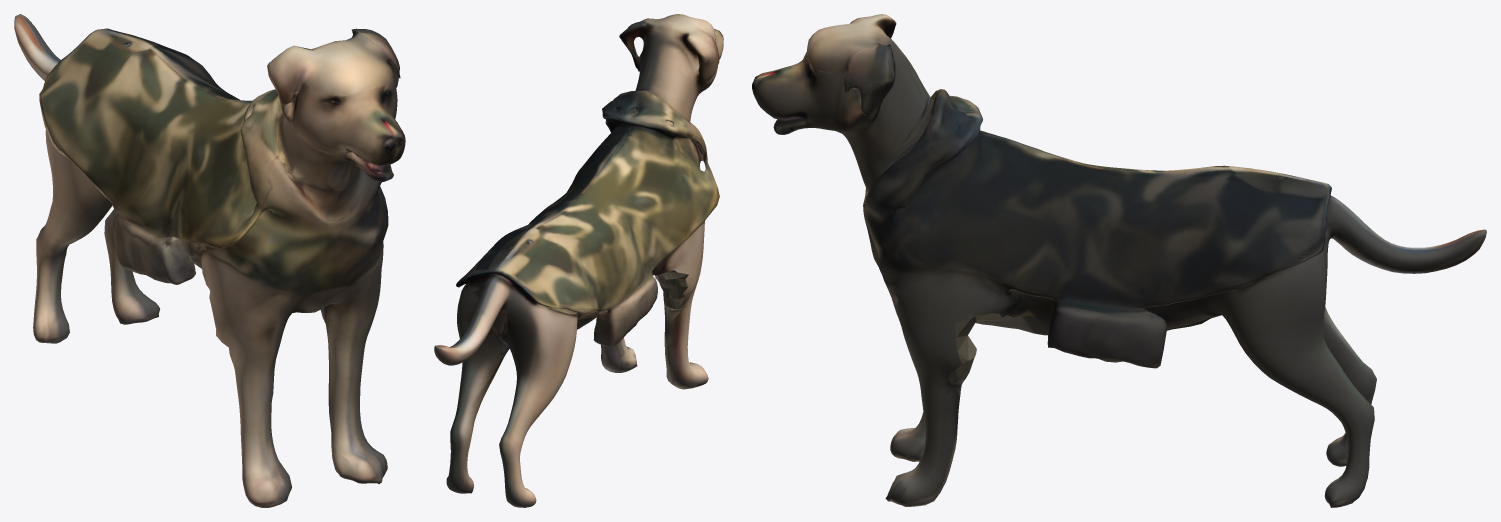
Rendered from perromilitar 1.fbx.
The picture shows the model from 3 angles, left to right: view 1: azimuth 30°, elevation 25°; view 2: azimuth 150°, elevation 25°; view 3: azimuth 270°, elevation 25°; orthographic projection. The views are drawn at different scales.
Parts seen in each view (by area): view 1: Mesh1_Mesh1.020; view 2: Mesh1_Mesh1.020; view 3: Mesh1_Mesh1.020.
Part boxes in pixels (box(x1,y1,x2,y2)): Mesh1_Mesh1.020: box(14, 14, 405, 507); Mesh1_Mesh1.020: box(434, 14, 723, 507); Mesh1_Mesh1.020: box(752, 14, 1486, 507).
Bounding box in the file's own units: 32.59 × 83.84 × 124.
1 material, 1 textured.
